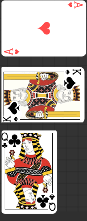AH: (67, 0, 84, 9)
